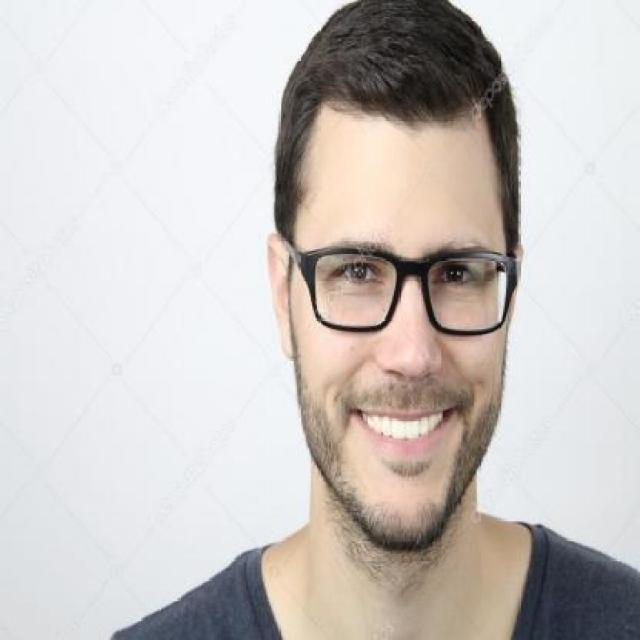glasses: (296, 229, 521, 349)
